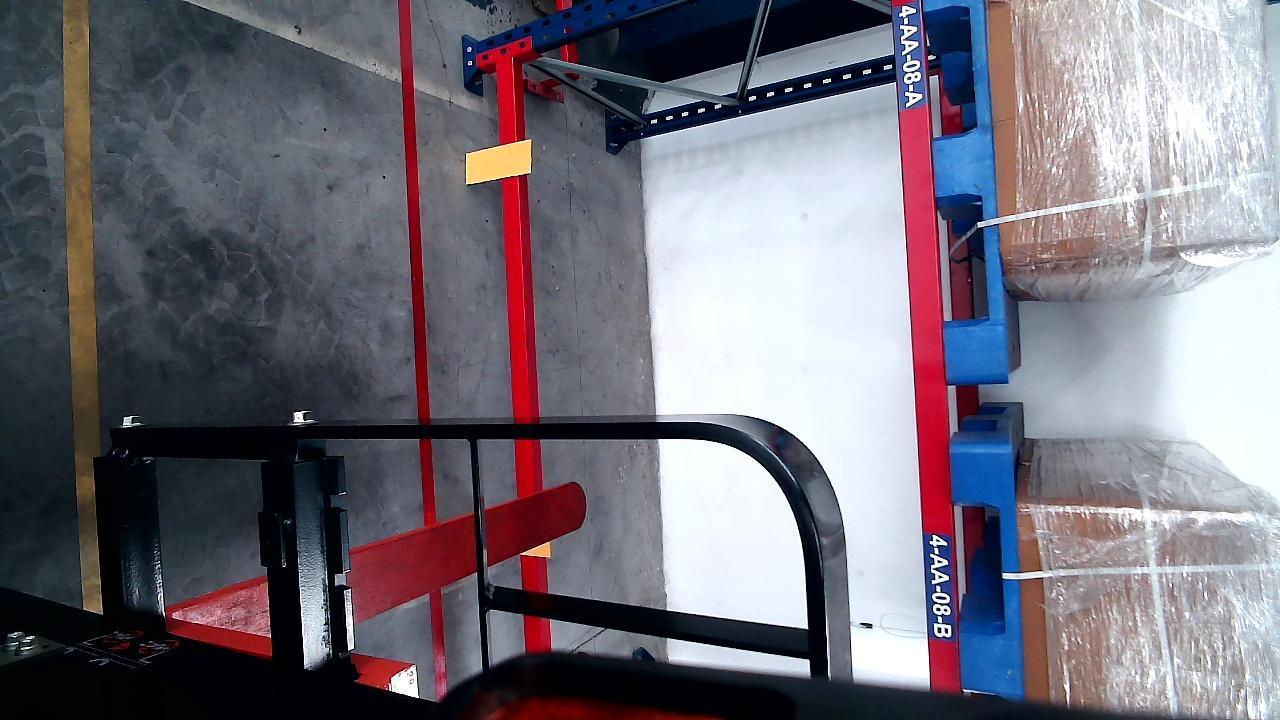h_rack: (895, 0, 958, 695), (495, 52, 550, 651)
orange_strip: (464, 141, 531, 183)
red_line: (398, 0, 452, 700)
small_pallet: (922, 0, 1011, 380), (955, 445, 1021, 697)
yellow_line: (62, 0, 106, 613)
